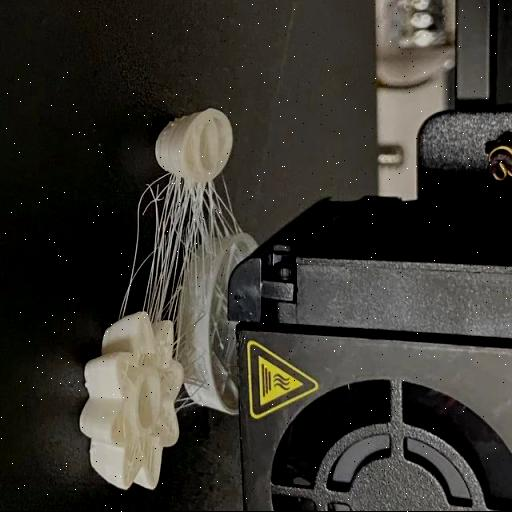stringing: (116, 172, 196, 330), (170, 391, 208, 417)
